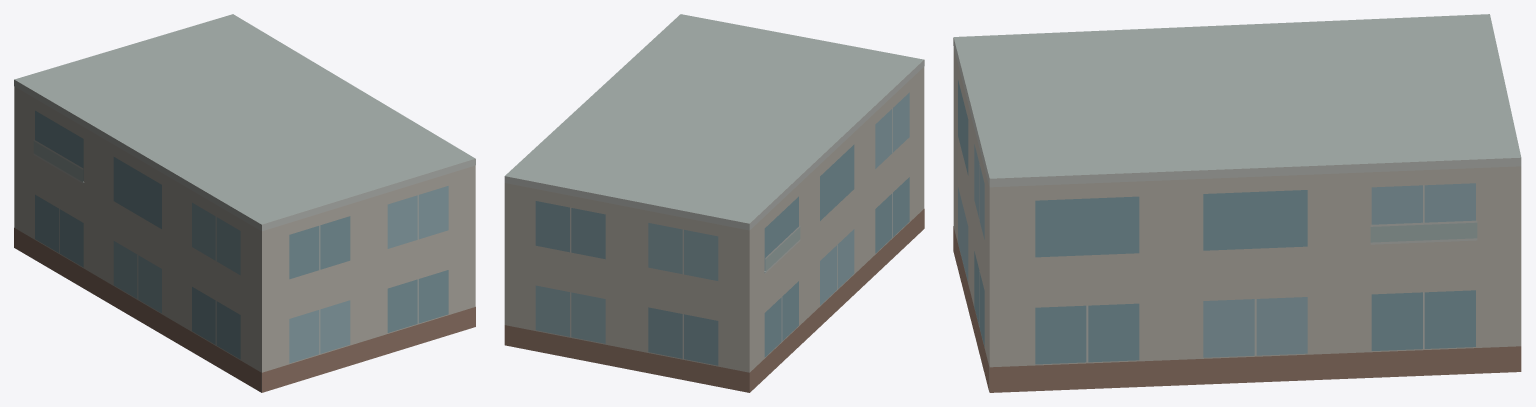
File: survey-upis-32769649.glb
3 views of the same model, side by side, from view 1: azimuth 30°, elevation 25°; view 2: azimuth 150°, elevation 25°; view 3: azimuth 270°, elevation 25° (orthographic). The views are drawn at different scales.
Parts seen in each view (by area): view 1: survey-upis-32769649.tmp; view 2: survey-upis-32769649.tmp; view 3: survey-upis-32769649.tmp.
Boxes of the visible parts, x1,y1,x2,y2 form: survey-upis-32769649.tmp: (14, 14, 475, 392); survey-upis-32769649.tmp: (504, 14, 924, 392); survey-upis-32769649.tmp: (953, 14, 1521, 392).
Size of the model in its own units: 10.07 by 6.1 by 14.67.
